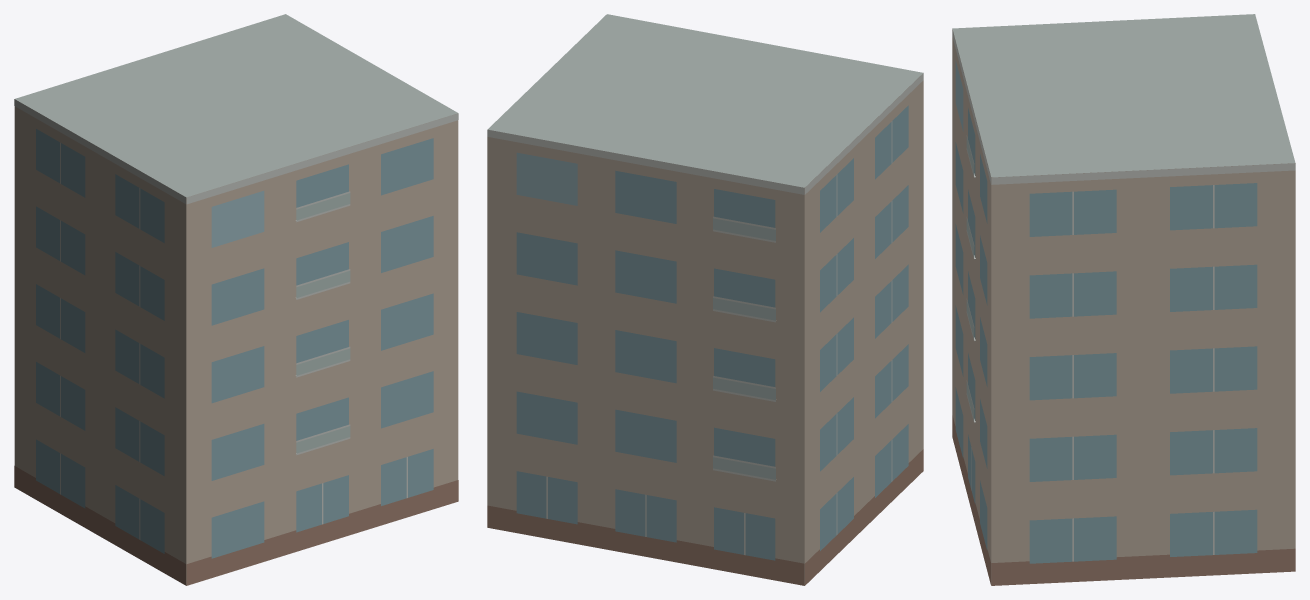
File: survey-upis-32725821.glb
The picture shows the model from 3 angles, left to right: view 1: azimuth 30°, elevation 25°; view 2: azimuth 150°, elevation 25°; view 3: azimuth 270°, elevation 25°; orthographic projection. The views are drawn at different scales.
Visible parts, largest first — view 1: survey-upis-32725821.tmp; view 2: survey-upis-32725821.tmp; view 3: survey-upis-32725821.tmp.
Boxes of the visible parts, left/top/right/bottom form: survey-upis-32725821.tmp: left=14, top=14, right=458, bottom=585; survey-upis-32725821.tmp: left=487, top=14, right=923, bottom=585; survey-upis-32725821.tmp: left=952, top=14, right=1295, bottom=585.
Bounding box in the file's own units: 11.55 × 13.45 × 10.25.
